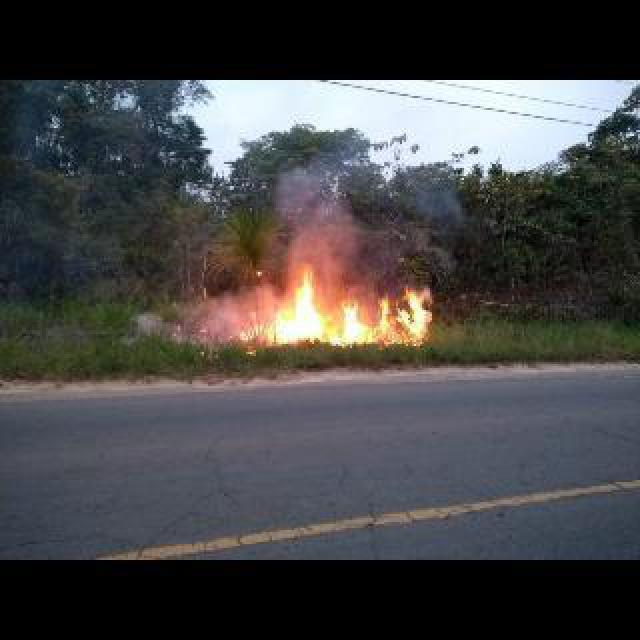Fire: (270, 260, 432, 350)
Smoke: (262, 148, 364, 288), (160, 282, 272, 348)
